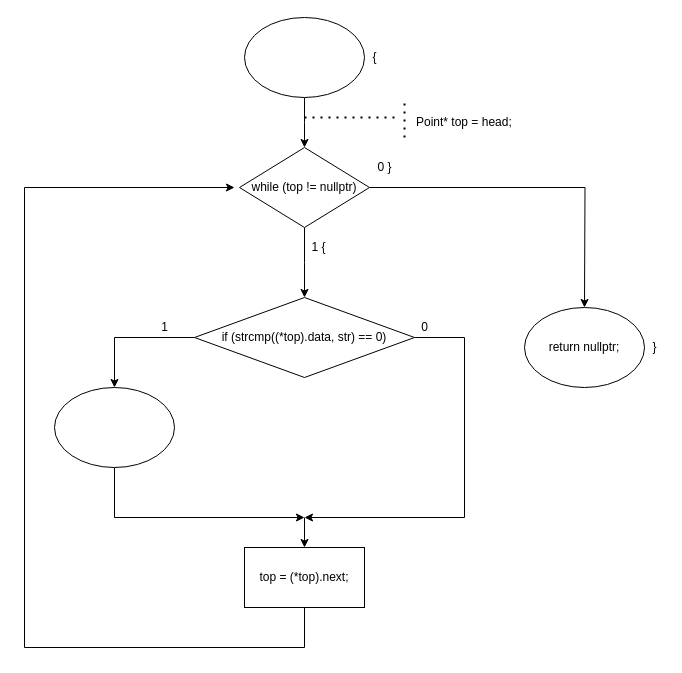
The diagram is 682 pixels wide and 673 high, and some of its shapes have lost their labels. Here are the shapes that lost their labels. From the top down, the centre of each, then its label:
the point at 304,57: Point* get_obj(char* str)
the point at 114,427: return top;
